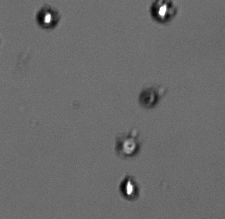Dead Cell: (137, 87, 159, 109)
Living Cell: (116, 132, 143, 158), (149, 1, 178, 22), (118, 174, 140, 200), (36, 5, 59, 29)
